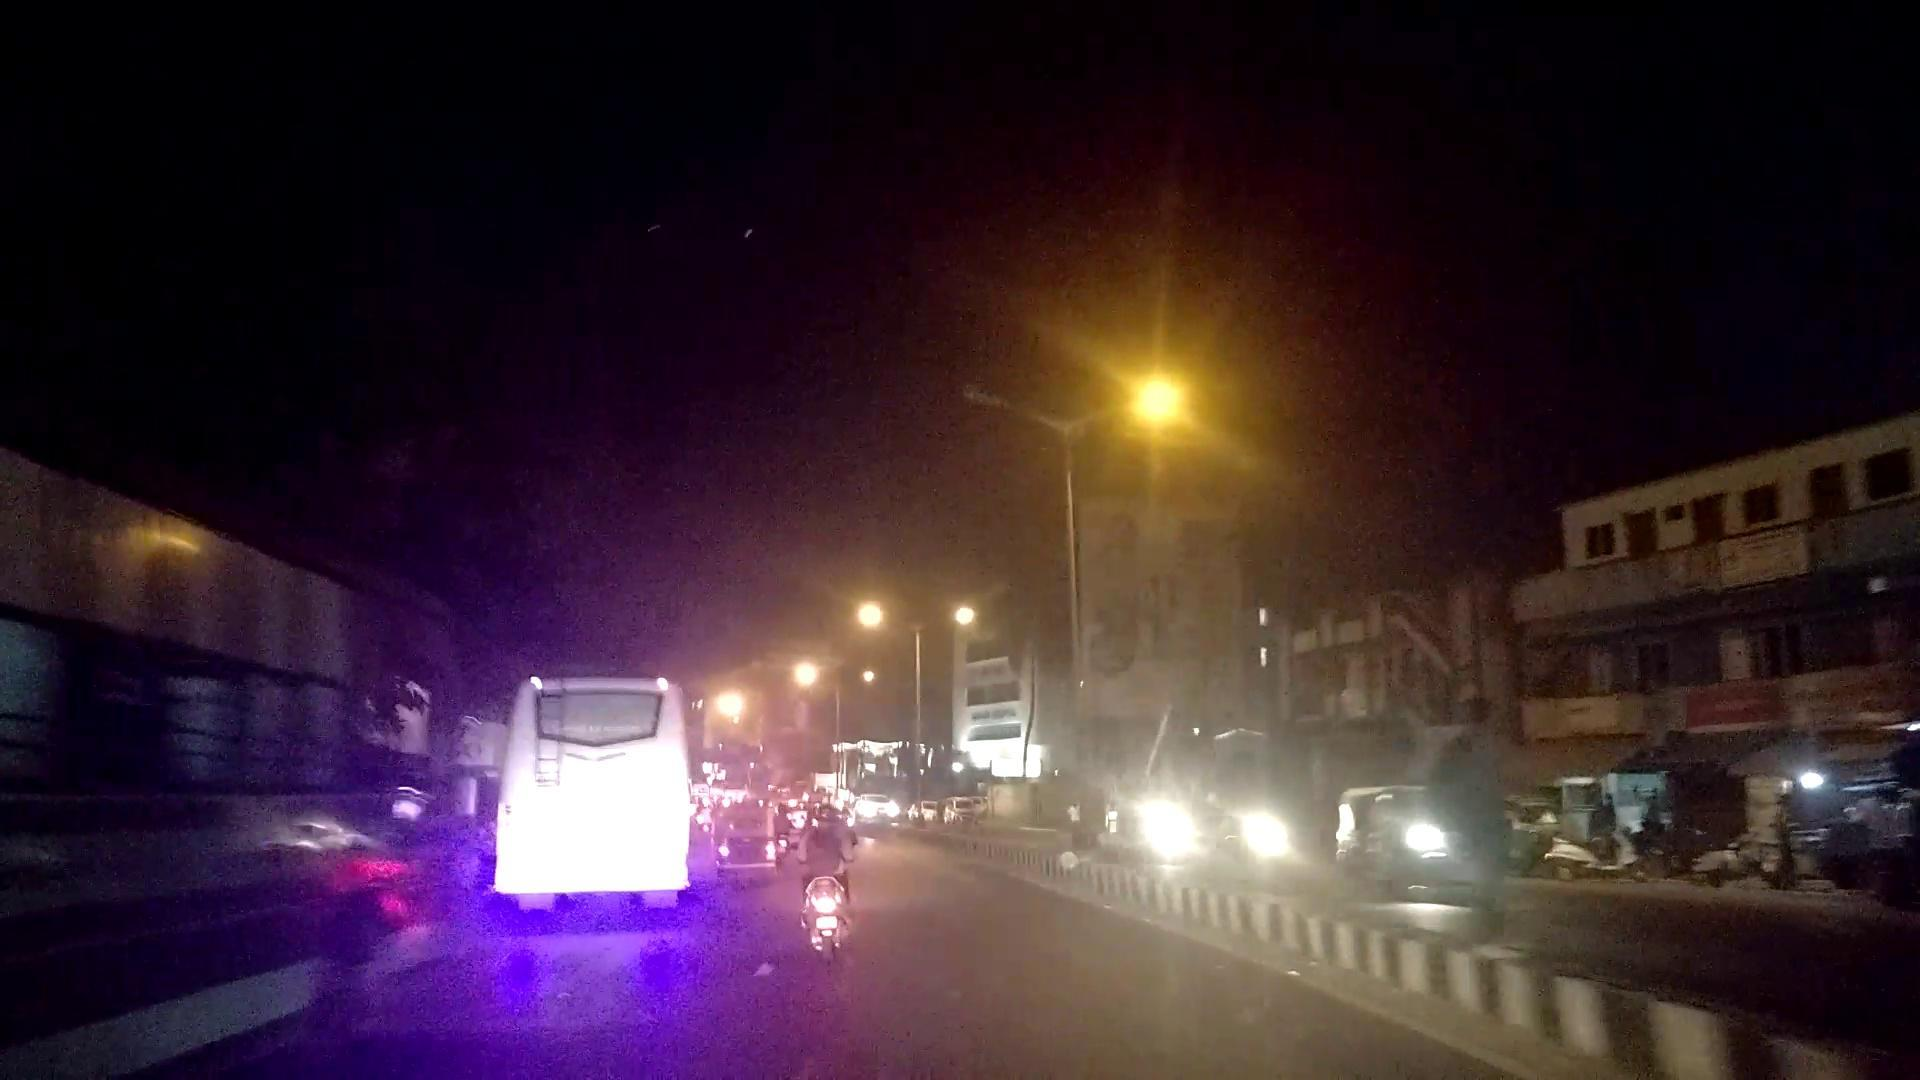on: (949, 232, 1519, 731)
